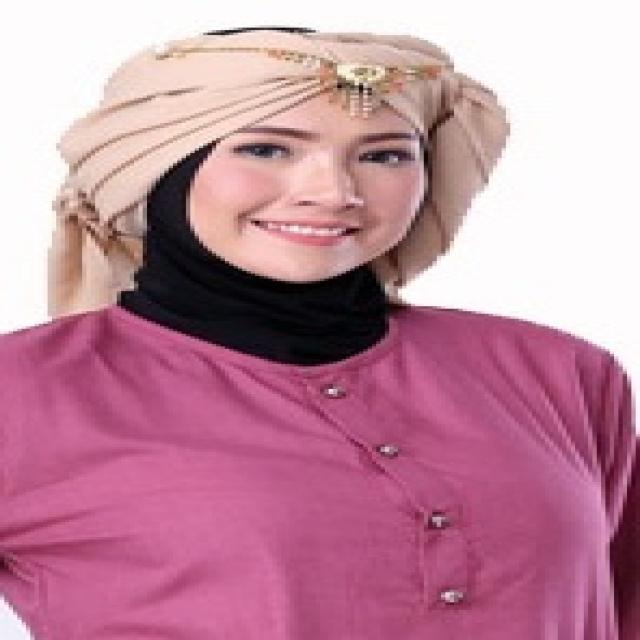head: (117, 28, 485, 293)
